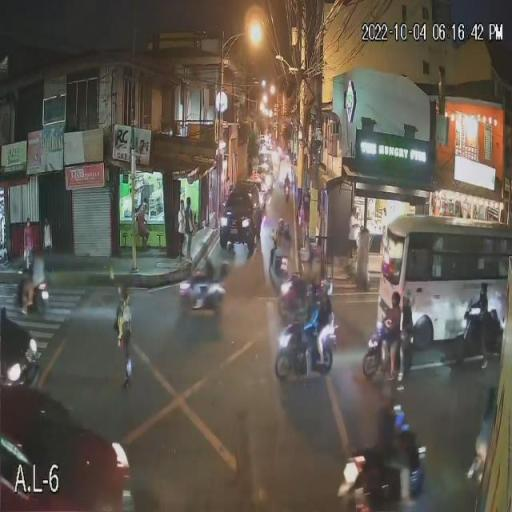helmet: (387, 292, 401, 307), (282, 275, 296, 289), (394, 404, 404, 417), (305, 276, 316, 286)
motorcycle: (337, 402, 427, 511), (274, 274, 338, 382), (360, 290, 403, 381), (178, 252, 226, 315), (18, 249, 55, 315), (268, 218, 292, 288)
rider: (370, 400, 418, 502), (306, 276, 334, 362), (183, 244, 219, 307), (279, 273, 311, 342), (378, 290, 403, 377), (21, 248, 45, 310), (274, 218, 293, 272), (284, 174, 294, 200)
